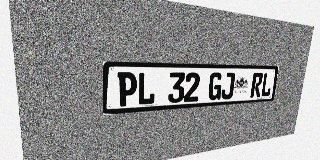2: (184, 72, 200, 102)
3: (168, 72, 185, 103)
G: (208, 72, 223, 101)
J: (220, 73, 235, 100)
L: (137, 72, 156, 105), (260, 73, 273, 97)
P: (117, 72, 137, 107)
R: (250, 73, 263, 98)
